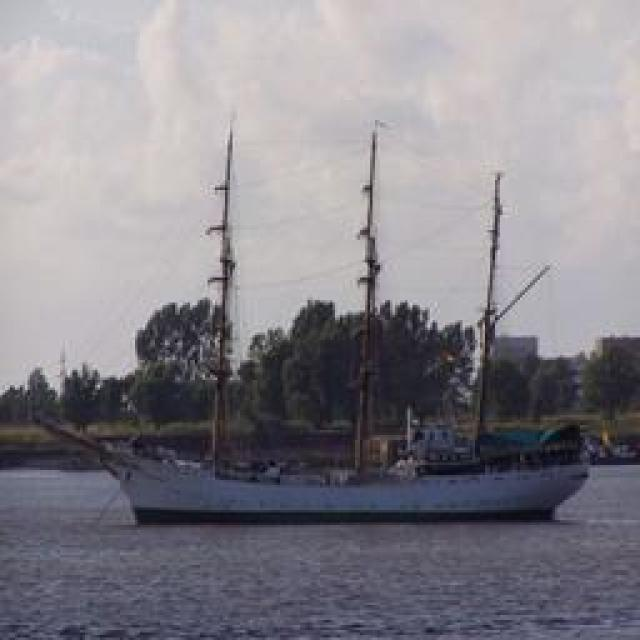CIV_Ship: (102, 435, 592, 520)
